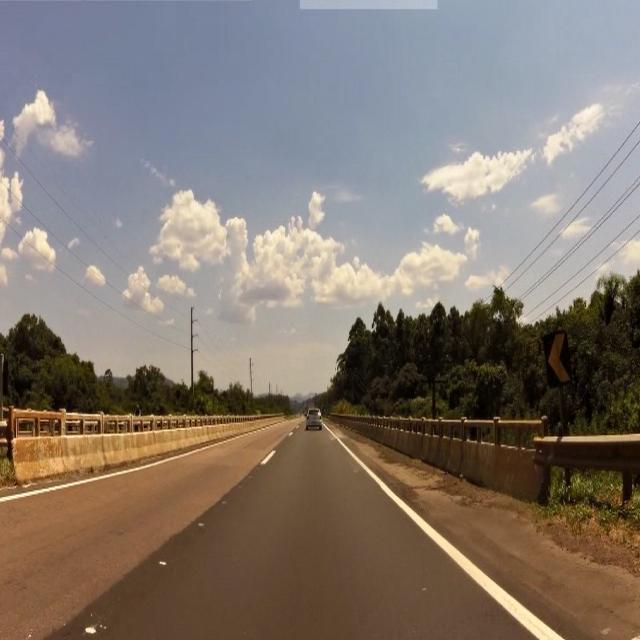Del: (542, 334, 572, 390)
